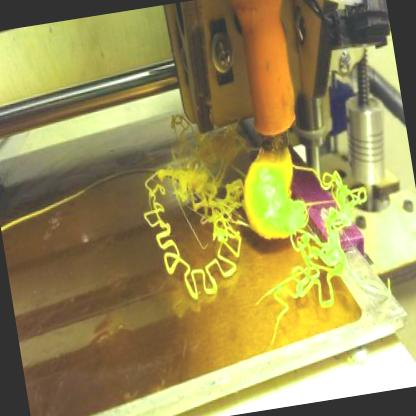fail: (133, 113, 248, 256), (310, 157, 370, 230)
